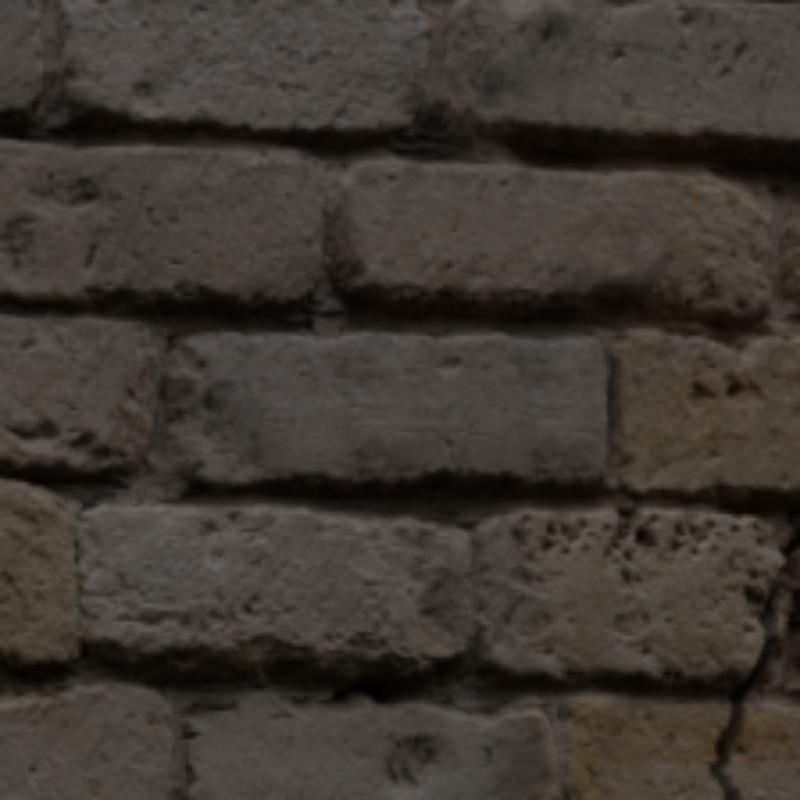crack: (711, 529, 796, 796)
